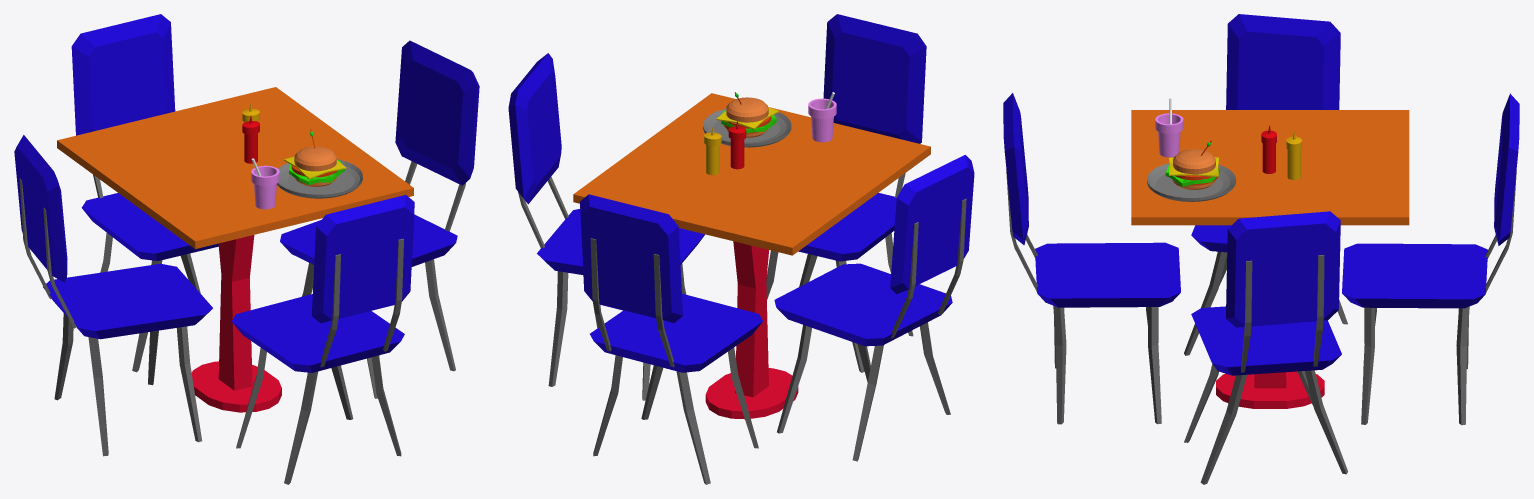
File: obj_retro_restaurant_table_12cfdf.glb
3 views of the same model, side by side, from view 1: azimuth 30°, elevation 25°; view 2: azimuth 150°, elevation 25°; view 3: azimuth 270°, elevation 25° (orthographic).
Visible parts, largest first — view 1: obj_retro_restaurant_table_12cfdf; view 2: obj_retro_restaurant_table_12cfdf; view 3: obj_retro_restaurant_table_12cfdf.
Boxes of the visible parts, <box> form: obj_retro_restaurant_table_12cfdf: <box>14,14,479,484</box>; obj_retro_restaurant_table_12cfdf: <box>508,14,974,484</box>; obj_retro_restaurant_table_12cfdf: <box>1003,14,1519,484</box>.
Size of the model in its own units: 1.2 by 0.75 by 1.24.
